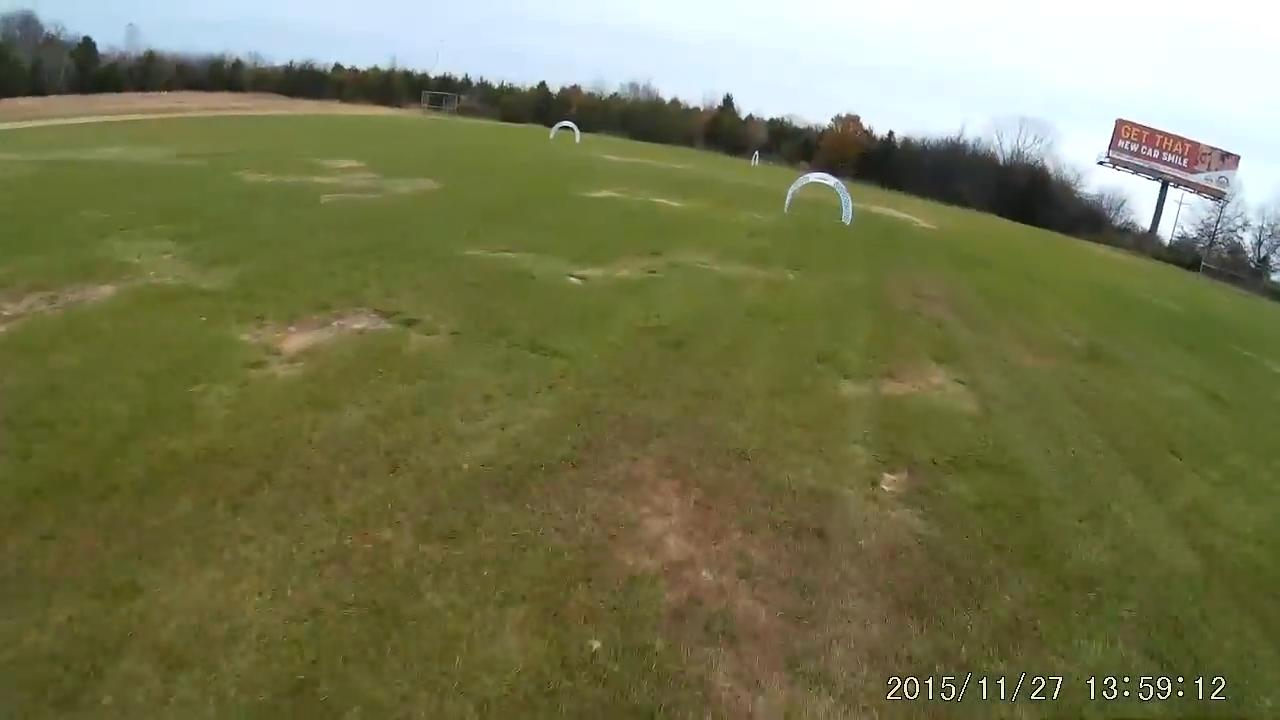gate: (778, 169, 857, 228)
